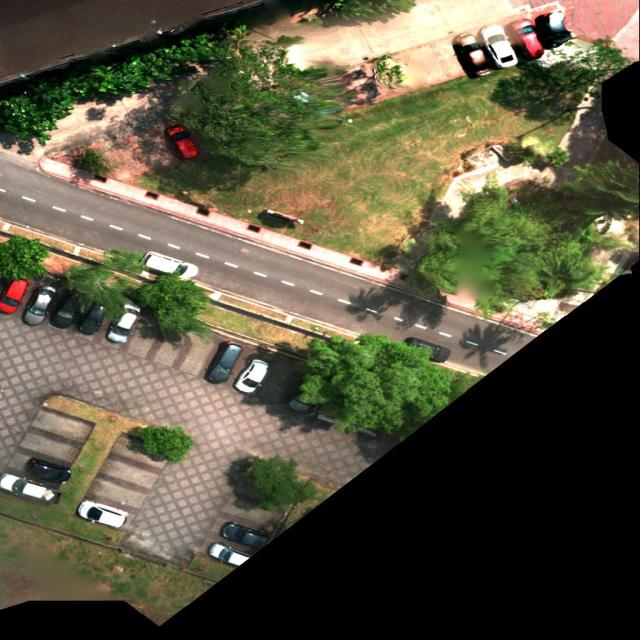Tree: (197, 34, 406, 170), (414, 185, 598, 302), (296, 332, 453, 434), (489, 36, 631, 122), (64, 246, 151, 324), (130, 271, 214, 345), (561, 161, 640, 237), (0, 65, 73, 147), (70, 46, 173, 100), (155, 25, 248, 77), (245, 453, 321, 512), (0, 235, 50, 282), (136, 424, 194, 462)
